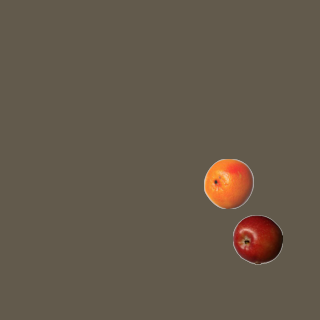Apple Braeburn: (232, 214, 282, 264)
Grapefruit Pink: (203, 158, 253, 208)
